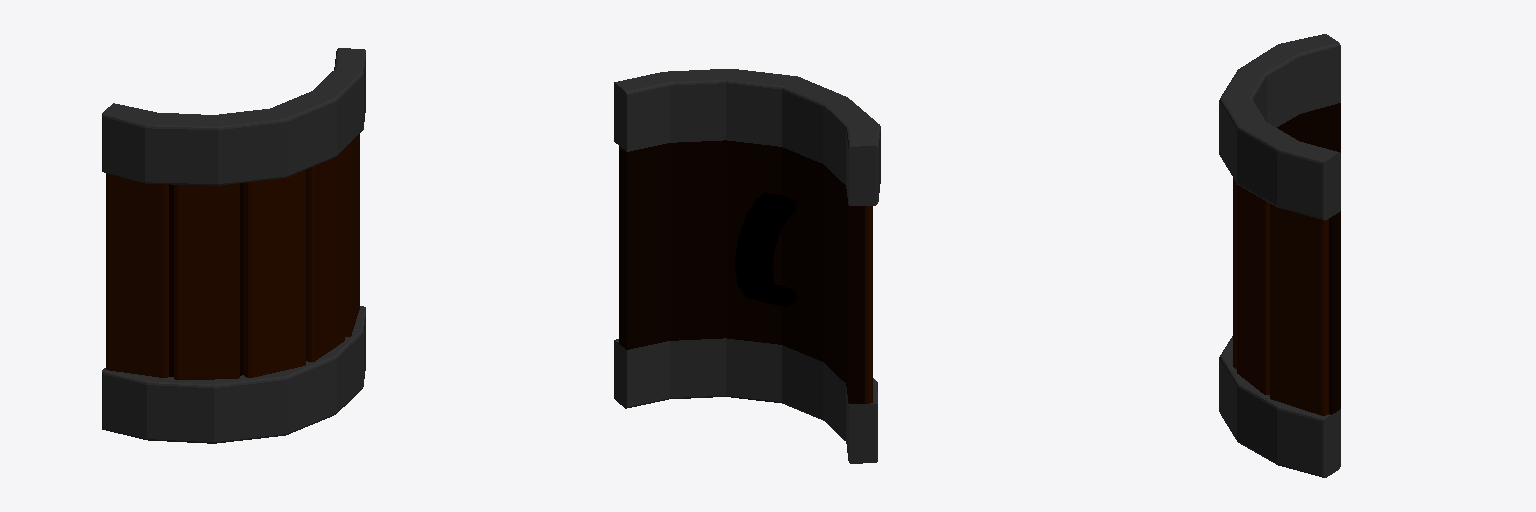
The model's file is Shield02.obj.
3 views of the same model, side by side, from view 1: azimuth 30°, elevation 25°; view 2: azimuth 150°, elevation 25°; view 3: azimuth 270°, elevation 25° (orthographic).
Parts seen in each view (by area): view 1: Shield02_Cylinder.003; view 2: Shield02_Cylinder.003; view 3: Shield02_Cylinder.003.
Boxes of the visible parts, x1,y1,x2,y2 form: Shield02_Cylinder.003: [102, 48, 365, 443]; Shield02_Cylinder.003: [614, 69, 880, 463]; Shield02_Cylinder.003: [1219, 34, 1340, 477].
Bounding box in the file's own units: 4.4 × 5.06 × 1.76.